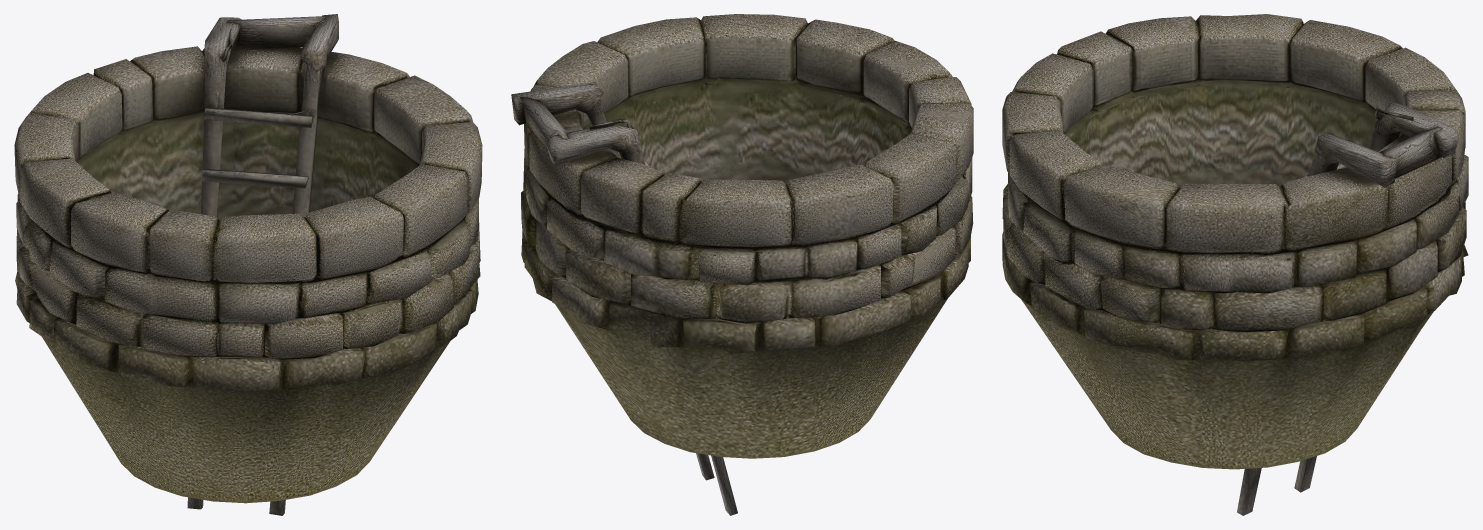
The model's file is stone+well+3d+model.glb.
3 views of the same model, side by side, from view 1: azimuth 30°, elevation 25°; view 2: azimuth 150°, elevation 25°; view 3: azimuth 270°, elevation 25° (orthographic). The views are drawn at different scales.
Visible parts, largest first — view 1: tripo_node_71953f42-666c-4034-807f-fff5d9e20d74; view 2: tripo_node_71953f42-666c-4034-807f-fff5d9e20d74; view 3: tripo_node_71953f42-666c-4034-807f-fff5d9e20d74.
Boxes of the visible parts, box(x1,y1,x2,y2) form: tripo_node_71953f42-666c-4034-807f-fff5d9e20d74: box(14, 14, 482, 515); tripo_node_71953f42-666c-4034-807f-fff5d9e20d74: box(511, 14, 973, 515); tripo_node_71953f42-666c-4034-807f-fff5d9e20d74: box(1002, 14, 1468, 515).
Bounding box in the file's own units: 0.998 × 0.9863 × 0.998.
Materials: 1 (1 with a texture image).
